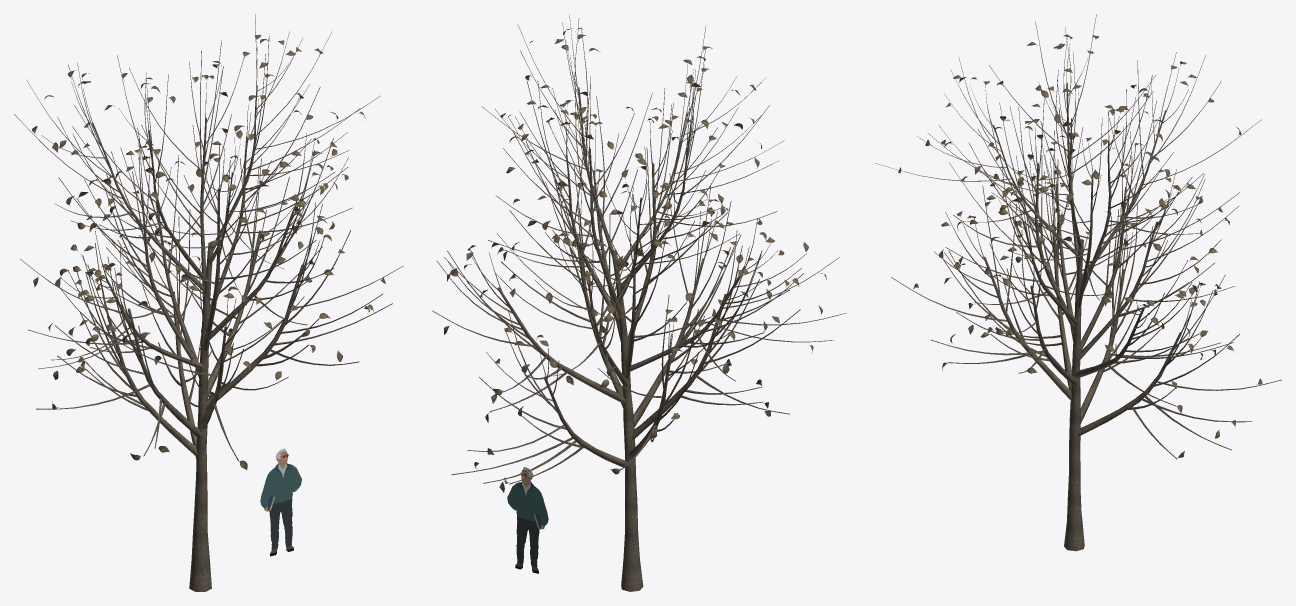
The picture shows the model from 3 angles, left to right: view 1: azimuth 30°, elevation 25°; view 2: azimuth 150°, elevation 25°; view 3: azimuth 270°, elevation 25°; orthographic projection. The views are drawn at different scales.
Visible parts, largest first — view 1: stemslevel1 (×14), stemslevel0, Steve (×2); view 2: stemslevel1 (×9), stemslevel0, Steve (×2); view 3: stemslevel1 (×7), stemslevel0.
Boxes of the visible parts, <box> form: stemslevel1 (×14): <box>92,117,303,458</box>; stemslevel0: <box>189,242,213,591</box>; Steve (×2): <box>260,464,301,549</box>; stemslevel1 (×9): <box>497,148,745,468</box>; stemslevel0: <box>611,250,643,591</box>; Steve (×2): <box>507,482,548,567</box>; stemslevel1 (×7): <box>983,163,1181,436</box>; stemslevel0: <box>1064,239,1084,551</box>.
Bounding box in the file's own units: 231 × 254 × 357.
14 materials, 2 textured.
